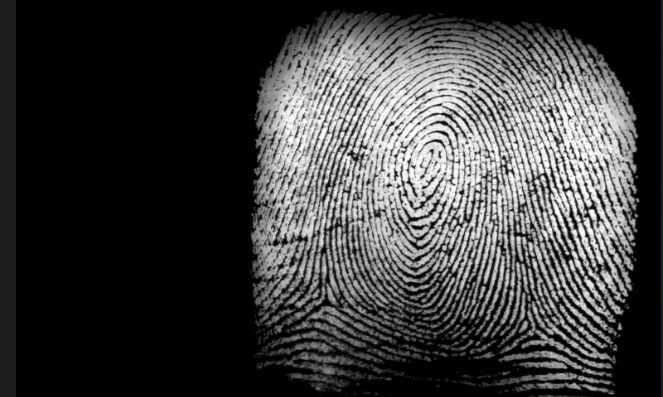nucelo: (414, 137, 448, 196)
verticilo: (300, 276, 343, 312), (516, 320, 546, 343)
